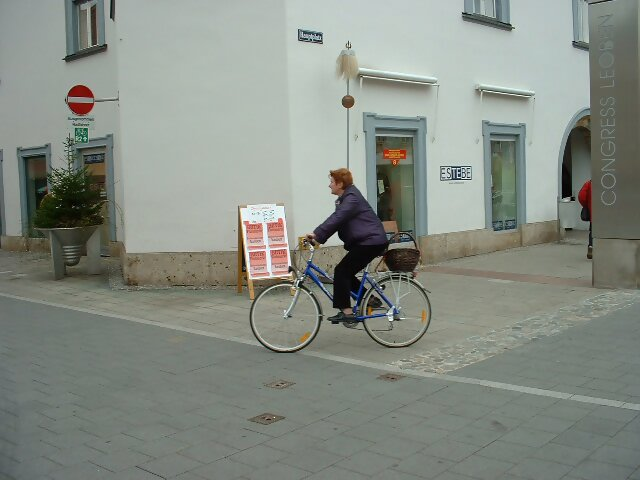person: (307, 164, 400, 325)
